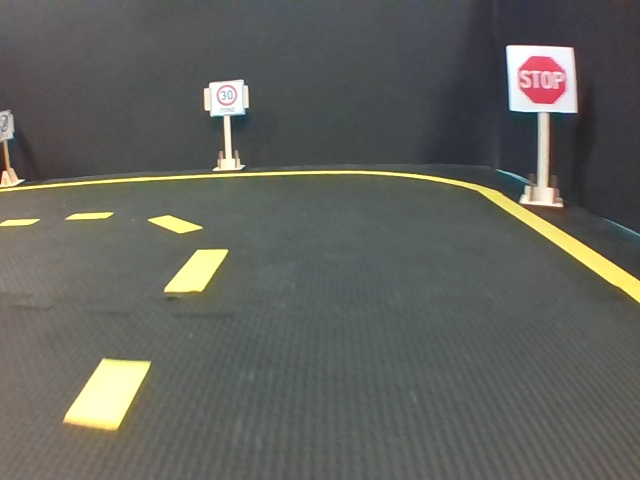30: (211, 82, 242, 117)
no30: (1, 113, 12, 137)
stop: (510, 46, 574, 113)
